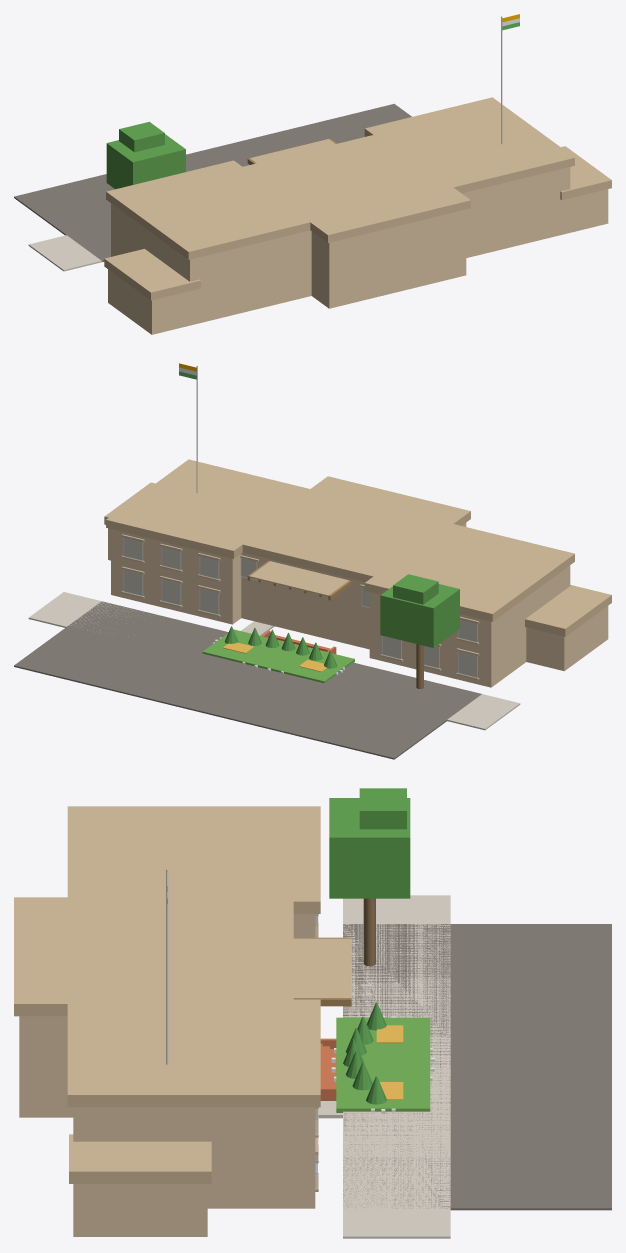
Rendered from dsa.glb.
3 views of the same model, one above another, from view 1: azimuth 30°, elevation 25°; view 2: azimuth 150°, elevation 25°; view 3: azimuth 270°, elevation 25° (orthographic). The views are drawn at different scales.
Visible parts, largest first — view 1: CentralParapet, LeftWingParapet, RightWingParapet, CentralBlock, LeftWingMain, Forecourt, RightWingMain, LeftSubWing, TreeCanopy, LeftSubWingParapet, RightSubWing, Forecourt2 (+3 smaller); view 2: Forecourt, CentralParapet, RightWingParapet, LeftWingParapet, RightWingMain, LeftWingMain, CentralBlock, TreeCanopy, Forecourt2, GardenBed, LeftSubWing, LeftSubWingParapet (+2 smaller); view 3: Forecourt, CentralParapet, RightWingParapet, Forecourt2, LeftWingParapet, RightWingMain, RightSubWing, TreeCanopy, GardenBed, RightSubWingParapet, CentralBlock, PergolaDeck (+2 smaller).
Boxes of the visible parts, x1,y1,x2,y2 form: CentralParapet: [237, 135, 470, 242]; LeftWingParapet: [106, 160, 312, 259]; RightWingParapet: [364, 97, 574, 193]; CentralBlock: [311, 209, 466, 308]; LeftWingMain: [111, 203, 311, 325]; Forecourt: [14, 103, 411, 261]; RightWingMain: [462, 167, 570, 257]; LeftSubWing: [108, 269, 197, 334]; TreeCanopy: [106, 134, 185, 189]; LeftSubWingParapet: [104, 249, 200, 300]; RightSubWing: [562, 189, 608, 234]; Forecourt2: [28, 235, 101, 271]; Forecourt: [14, 601, 481, 759]; CentralParapet: [242, 476, 470, 582]; RightWingParapet: [106, 459, 311, 558]; LeftWingParapet: [364, 524, 574, 621]; RightWingMain: [111, 529, 241, 624]; LeftWingMain: [369, 565, 570, 687]; CentralBlock: [241, 523, 466, 649]; TreeCanopy: [380, 584, 459, 647]; Forecourt2: [28, 592, 520, 730]; GardenBed: [202, 629, 354, 683]; LeftSubWing: [526, 606, 608, 671]; LeftSubWingParapet: [525, 585, 611, 636]; Forecourt: [343, 924, 611, 1210]; CentralParapet: [14, 897, 293, 1016]; RightWingParapet: [67, 999, 320, 1107]; Forecourt2: [343, 895, 450, 1238]; LeftWingParapet: [67, 806, 320, 913]; RightWingMain: [73, 1107, 315, 1208]; RightSubWing: [73, 1184, 207, 1236]; TreeCanopy: [329, 798, 410, 898]; GardenBed: [336, 1017, 430, 1112]; RightSubWingParapet: [69, 1134, 211, 1183]; CentralBlock: [19, 1016, 73, 1117]; PergolaDeck: [293, 938, 351, 998].
Size of what is drawn, in the model's own units: 60.6 by 27.46 by 44.45.
